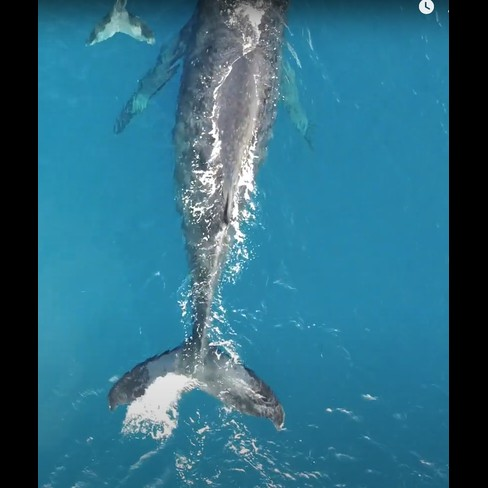hump: (93, 1, 323, 440)
